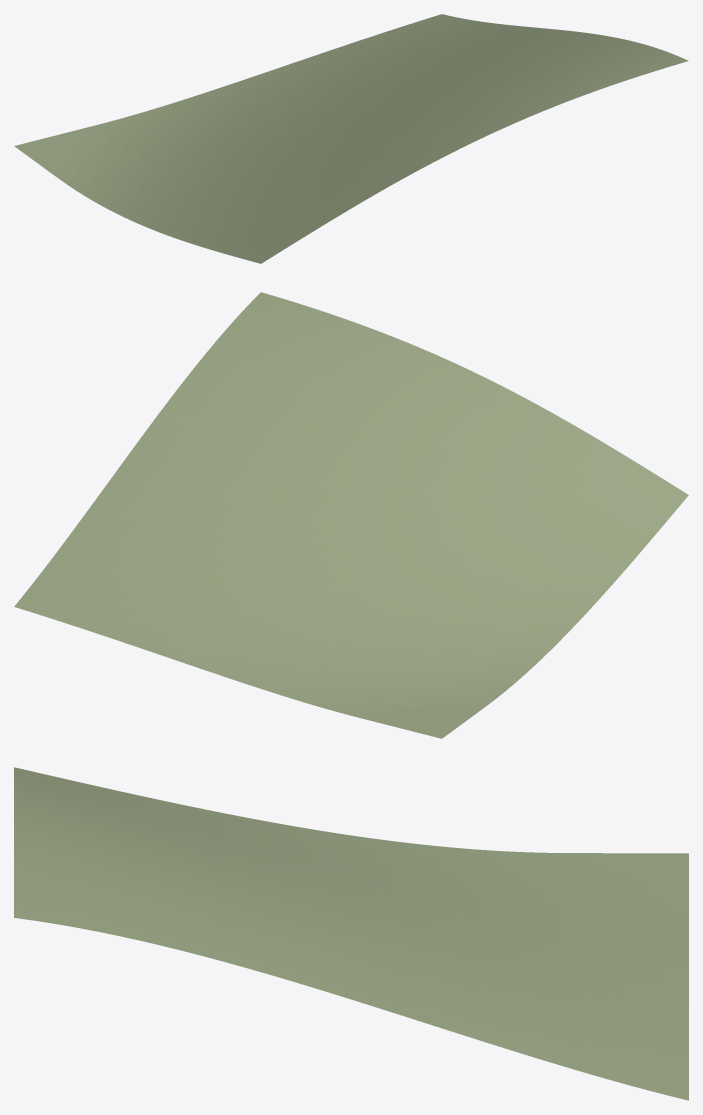
File: desert-19-15.glb
The picture shows the model from 3 angles, top to bottom: view 1: azimuth 30°, elevation 25°; view 2: azimuth 150°, elevation 25°; view 3: azimuth 270°, elevation 25°; orthographic projection. The views are drawn at different scales.
Visible parts, largest first — view 1: desert-19-15; view 2: desert-19-15; view 3: desert-19-15.
Boxes of the visible parts, x1=… form: desert-19-15: x1=14, y1=14, x2=688, y2=263; desert-19-15: x1=14, y1=292, x2=688, y2=738; desert-19-15: x1=14, y1=767, x2=688, y2=1100.
Bounding box in the file's own units: 512 × 185 × 512.
